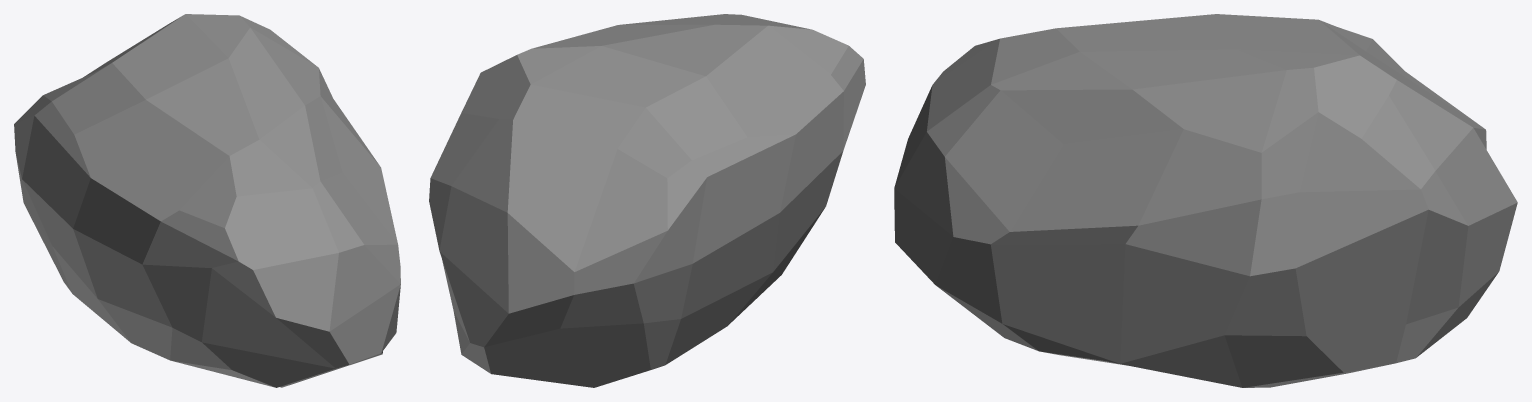
File: HardRock_02.fbx
3 views of the same model, side by side, from view 1: azimuth 30°, elevation 25°; view 2: azimuth 150°, elevation 25°; view 3: azimuth 270°, elevation 25° (orthographic). The views are drawn at different scales.
Parts seen in each view (by area): view 1: HardRock_02; view 2: HardRock_02; view 3: HardRock_02.
Boxes of the visible parts, x1,y1,x2,y2 form: HardRock_02: (14,14,400,387); HardRock_02: (429,14,865,387); HardRock_02: (894,14,1517,387).
Size of the model in its own units: 75.49 by 67.07 by 122.
